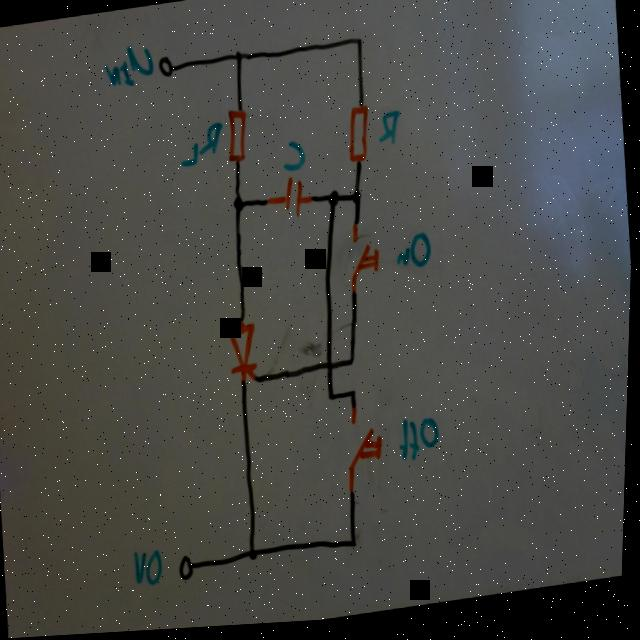capacitor: (268, 177, 316, 223)
crossover: (325, 360, 339, 375)
junction: (234, 196, 246, 215), (330, 193, 341, 211), (353, 191, 364, 208), (251, 548, 262, 565), (351, 540, 363, 554), (350, 357, 360, 371), (329, 394, 339, 405), (355, 38, 364, 50), (351, 392, 360, 403), (236, 52, 244, 64)
resistor: (345, 105, 375, 168), (224, 108, 253, 165)
switch: (346, 407, 390, 495), (347, 225, 385, 296)
terminal: (180, 554, 199, 583), (158, 55, 177, 79)
text: (102, 43, 156, 90), (178, 120, 227, 170), (399, 419, 446, 467), (396, 234, 435, 275), (136, 549, 169, 588), (378, 112, 405, 151), (283, 140, 308, 176)
thyristor: (228, 321, 263, 385)
